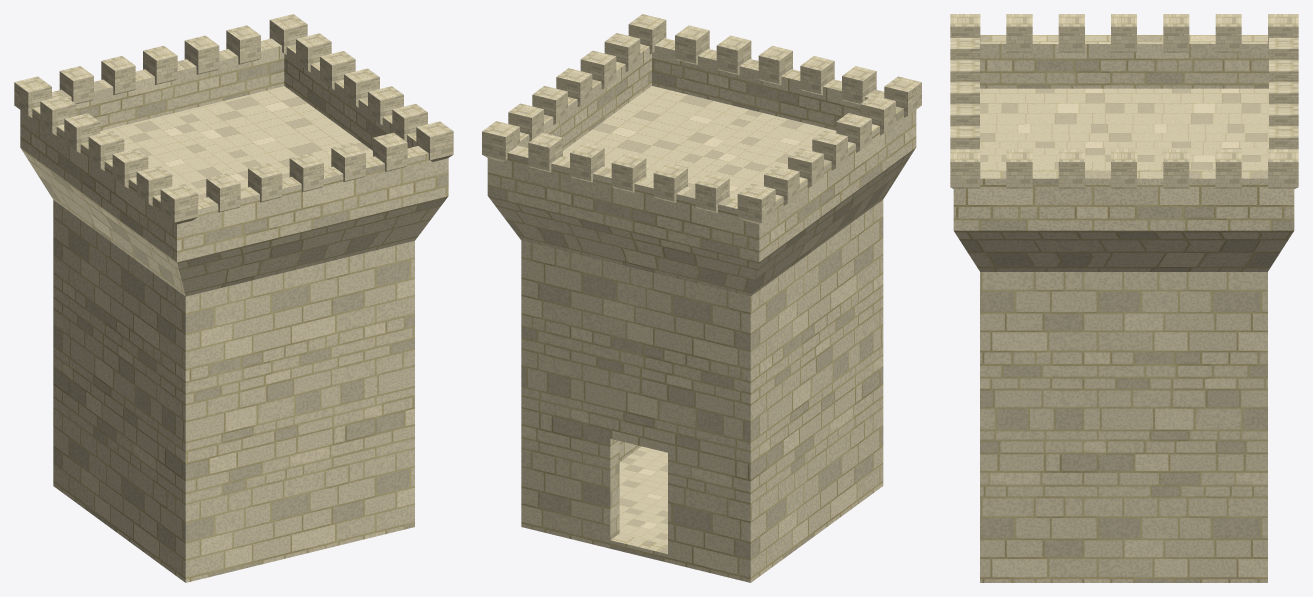
The model's file is Tower_square.gltf.
3 views of the same model, side by side, from view 1: azimuth 30°, elevation 25°; view 2: azimuth 150°, elevation 25°; view 3: azimuth 270°, elevation 25° (orthographic). The views are drawn at different scales.
Parts seen in each view (by area): view 1: Tower_Square; view 2: Tower_Square; view 3: Tower_Square.
Part boxes in pixels (left/top/right/bottom): Tower_Square: left=14, top=14, right=453, bottom=582; Tower_Square: left=482, top=14, right=921, bottom=582; Tower_Square: left=950, top=14, right=1298, bottom=582.
Bounding box in the file's own units: 7.05 × 9.63 × 7.01.
Materials: 2 (2 with a texture image).
